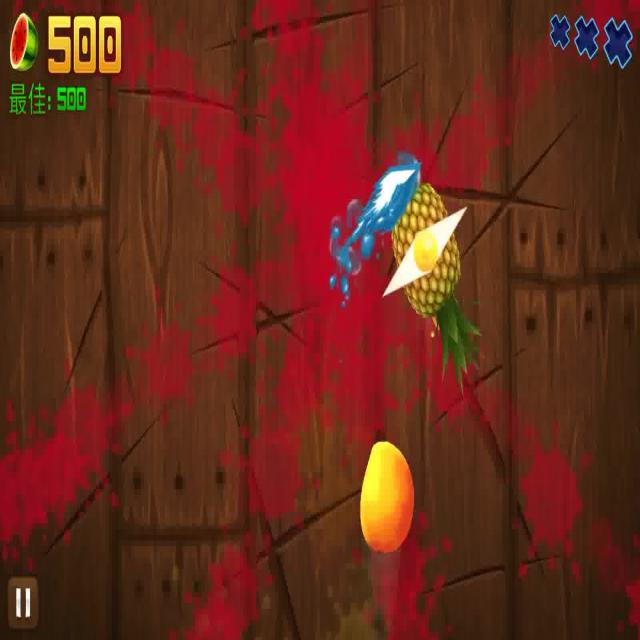fruit: (385, 184, 477, 379), (357, 438, 415, 556)
